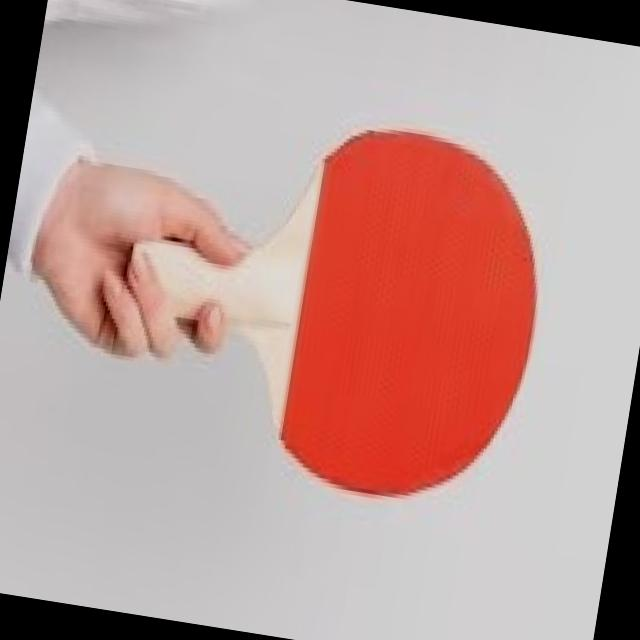TT Racket: (197, 81, 575, 551)
